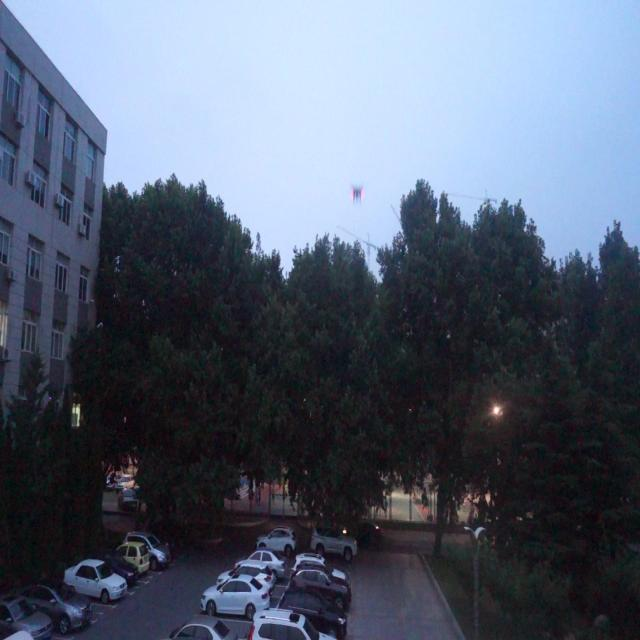drone: (348, 182, 364, 202)
